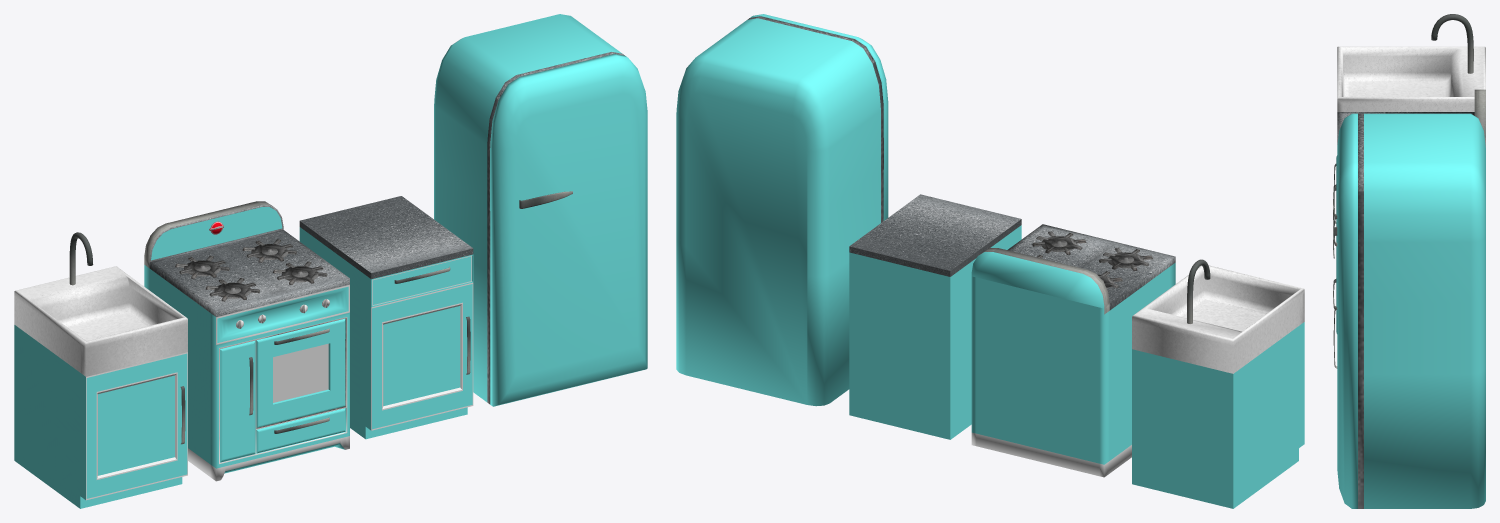
File: kitchen set.fbx
3 views of the same model, side by side, from view 1: azimuth 30°, elevation 25°; view 2: azimuth 150°, elevation 25°; view 3: azimuth 270°, elevation 25° (orthographic). The views are drawn at different scales.
Visible parts, largest first — view 1: kitchen set_turquoise blue_refrigerator_Door, kitchen set_turquoise blue, kitchen set_turquoise blue_kitchen faucet, kitchen set_turquoise blue_refrigerator, kitchen set_turquoise blue_counter, kitchen set_turquoise blue_counter_Door02, kitchen set_turquoise blue_kitchen faucet_Door, kitchen set_turquoise blue_Door02, kitchen set_turquoise blue_Door01, kitchen set_turquoise blue_counter_Door01, kitchen set_turquoise blue_Door03; view 2: kitchen set_turquoise blue_refrigerator, kitchen set_turquoise blue, kitchen set_turquoise blue_kitchen faucet, kitchen set_turquoise blue_counter, kitchen set_turquoise blue_refrigerator_Door; view 3: kitchen set_turquoise blue_refrigerator, kitchen set_turquoise blue_kitchen faucet, kitchen set_turquoise blue_refrigerator_Door, kitchen set_turquoise blue, kitchen set_turquoise blue_Door02.
Boxes of the visible parts, x1,y1,x2,y2 form: kitchen set_turquoise blue_refrigerator_Door: [490, 54, 647, 406]; kitchen set_turquoise blue: [144, 201, 349, 481]; kitchen set_turquoise blue_kitchen faucet: [14, 232, 187, 508]; kitchen set_turquoise blue_refrigerator: [434, 14, 624, 404]; kitchen set_turquoise blue_counter: [299, 196, 473, 439]; kitchen set_turquoise blue_counter_Door02: [368, 282, 473, 430]; kitchen set_turquoise blue_kitchen faucet_Door: [83, 352, 187, 500]; kitchen set_turquoise blue_Door02: [256, 318, 345, 427]; kitchen set_turquoise blue_Door01: [220, 340, 255, 462]; kitchen set_turquoise blue_counter_Door01: [372, 255, 471, 305]; kitchen set_turquoise blue_Door03: [256, 408, 345, 453]; kitchen set_turquoise blue_refrigerator: [676, 16, 883, 406]; kitchen set_turquoise blue: [971, 224, 1175, 477]; kitchen set_turquoise blue_kitchen faucet: [1132, 259, 1304, 508]; kitchen set_turquoise blue_counter: [849, 194, 1021, 439]; kitchen set_turquoise blue_refrigerator_Door: [750, 14, 888, 220]; kitchen set_turquoise blue_refrigerator: [1358, 113, 1485, 508]; kitchen set_turquoise blue_kitchen faucet: [1337, 14, 1485, 111]; kitchen set_turquoise blue_refrigerator_Door: [1333, 113, 1357, 508]; kitchen set_turquoise blue: [1337, 89, 1485, 147]; kitchen set_turquoise blue_Door02: [1333, 174, 1337, 307].
Bounding box in the file's own units: 2.96 × 1.6 × 0.6677.
